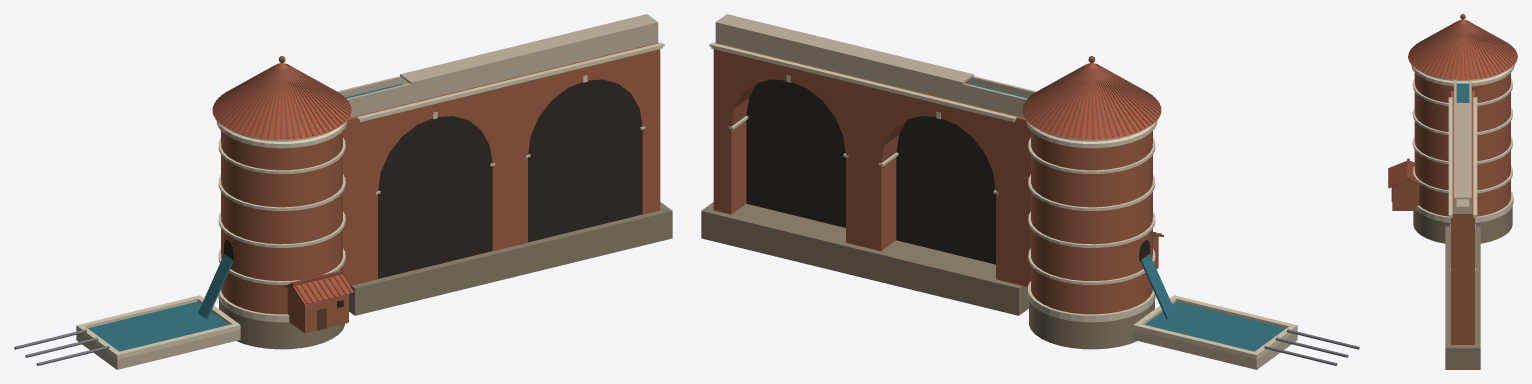
The model's file is rome_castellum.glb.
The picture shows the model from 3 angles, left to right: view 1: azimuth 30°, elevation 25°; view 2: azimuth 150°, elevation 25°; view 3: azimuth 270°, elevation 25°; orthographic projection. The views are drawn at different scales.
Parts seen in each view (by area): view 1: rome_castellum; view 2: rome_castellum; view 3: rome_castellum.
Part boxes in pixels (x1=…): rome_castellum: x1=14, y1=14, x2=672, y2=369; rome_castellum: x1=701, y1=14, x2=1359, y2=369; rome_castellum: x1=1388, y1=14, x2=1517, y2=369.
Size of the model in its own units: 72 by 28.85 by 16.19.
